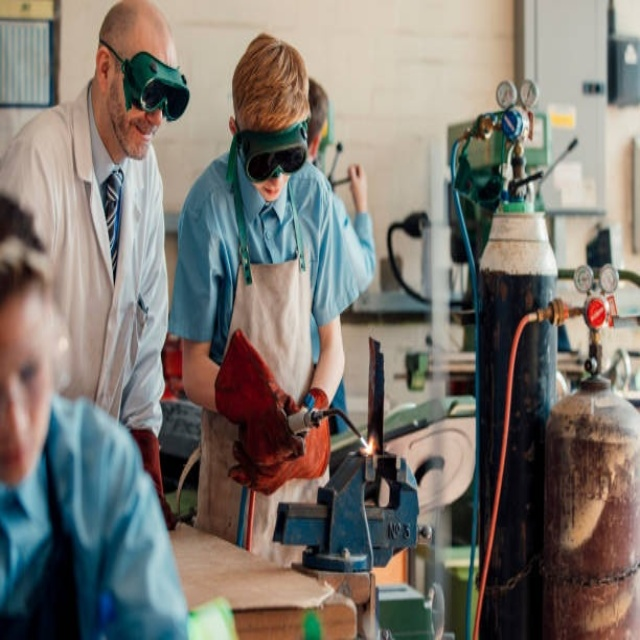Gafas: (0, 298, 71, 431), (125, 39, 187, 125), (234, 116, 310, 179)
Guantes: (212, 317, 298, 463), (226, 381, 337, 494)
Sin_guantes: (345, 158, 368, 202)
Sin_mascara: (128, 118, 160, 157), (256, 180, 284, 205)
